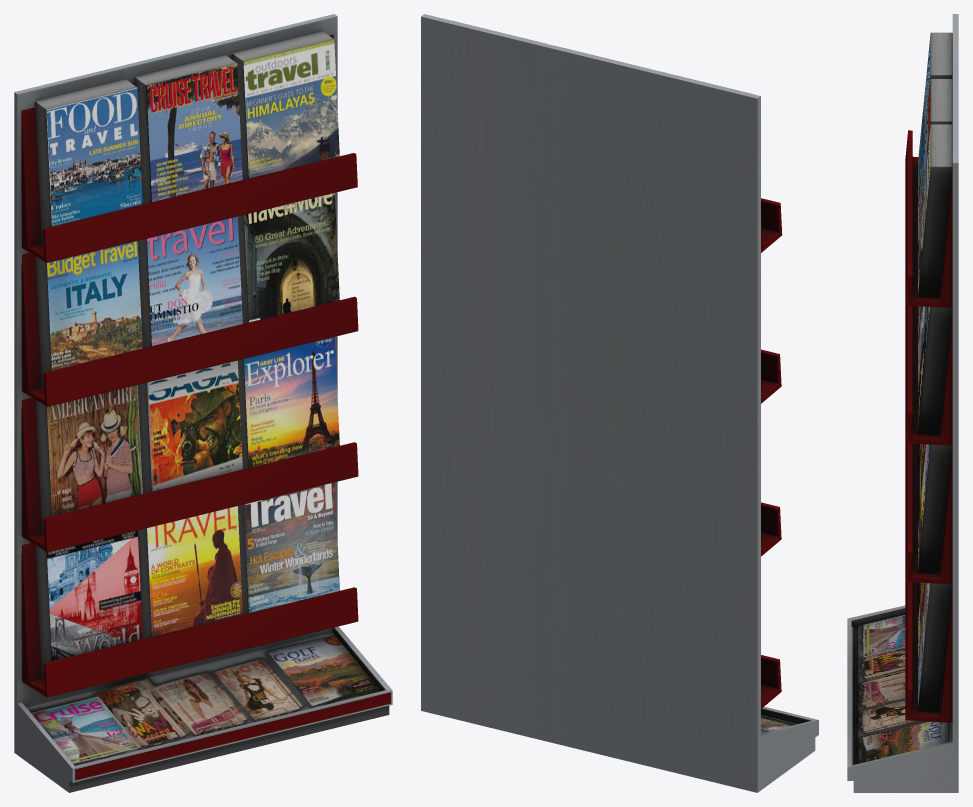
The model's file is Sun_0311_Magazine_rack_Travel_OPT.fbx.
3 renders of one model, left to right at view 1: azimuth 30°, elevation 25°; view 2: azimuth 150°, elevation 25°; view 3: azimuth 270°, elevation 25°, orthographic. The views are drawn at different scales.
Parts seen in each view (by area): view 1: Sun_0311_Magazine_rack_Mixed; view 2: Sun_0311_Magazine_rack_Mixed; view 3: Sun_0311_Magazine_rack_Mixed.
Boxes of the visible parts, left/top/right/bottom form: Sun_0311_Magazine_rack_Mixed: left=14, top=14, right=392, bottom=792; Sun_0311_Magazine_rack_Mixed: left=421, top=14, right=818, bottom=792; Sun_0311_Magazine_rack_Mixed: left=847, top=14, right=958, bottom=792.
Bounding box in the file's own units: 81.19 × 160 × 25.66.
